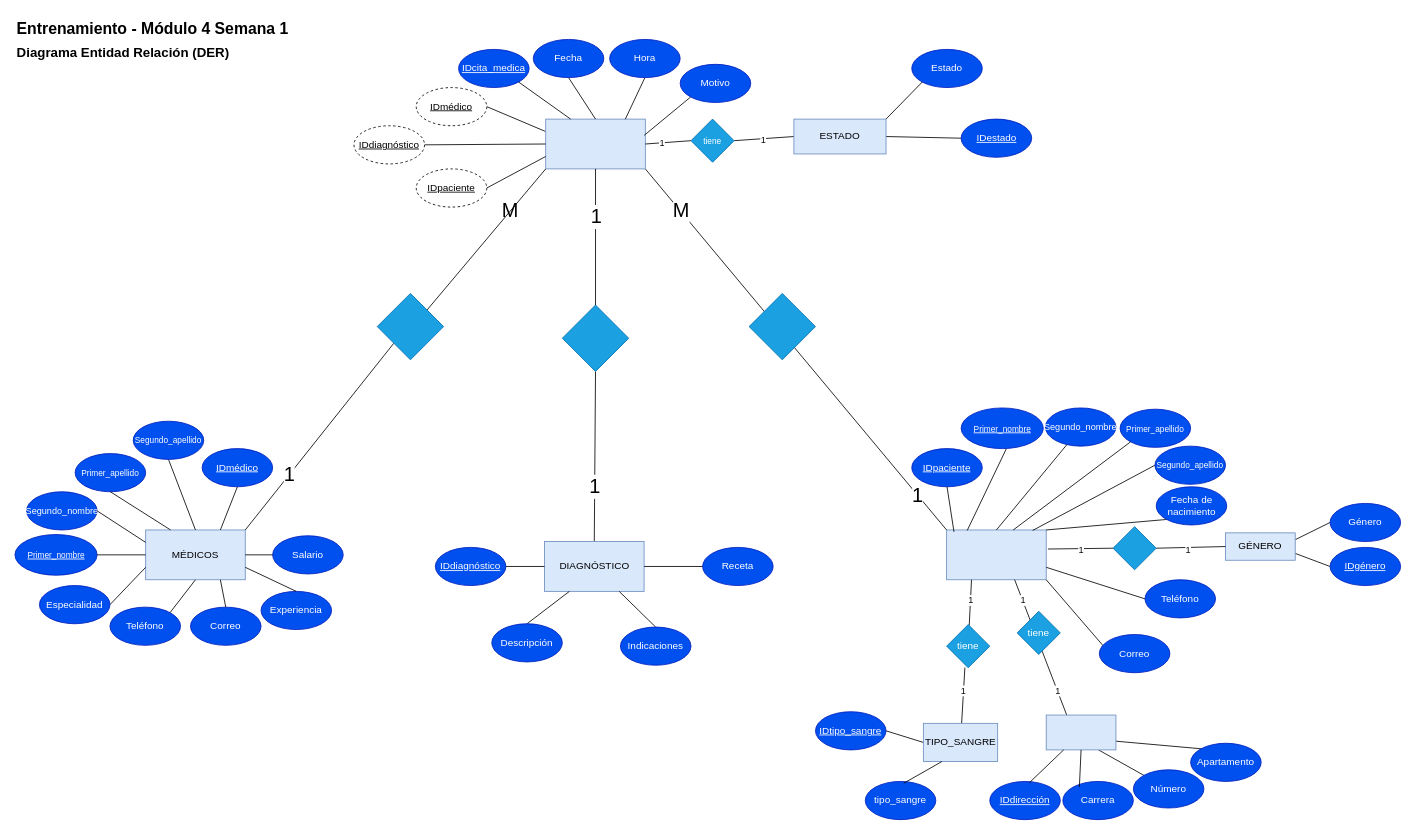
Some shapes in this 1415 by 834 pixel diagram are drawn without their labels. The box of each missing label's shape, as (x1, y1, x2, y2) in pixels:
agenda: (748, 293, 815, 360)
atiende: (376, 293, 444, 360)
CITAS MÉDICAS: (545, 118, 645, 169)
DIRECCIÓN: (1045, 714, 1116, 750)
genera: (561, 304, 629, 371)
PACIENTES: (946, 529, 1046, 580)
pertenece: (1112, 526, 1156, 570)
